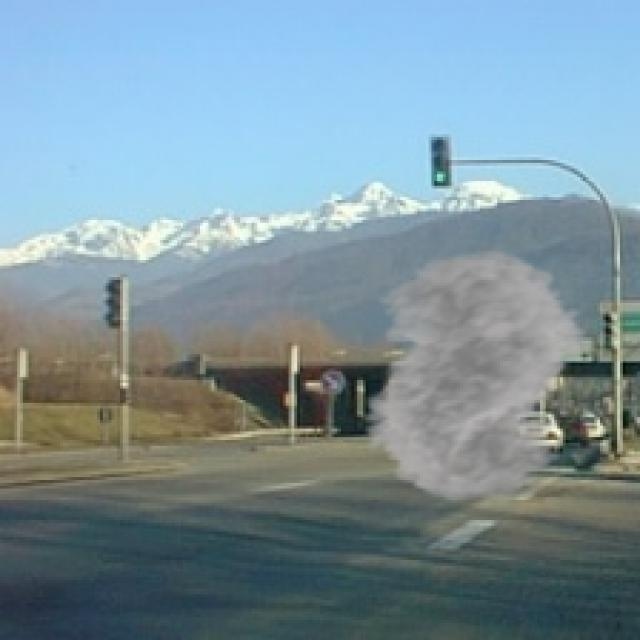Smoke: (334, 248, 606, 503)
